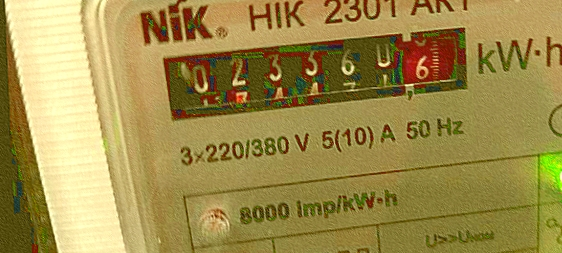0: (189, 62, 212, 97), (371, 40, 394, 71)
2: (227, 55, 249, 89)
3: (301, 45, 321, 79), (263, 53, 284, 84)
6: (411, 51, 434, 85), (336, 45, 358, 79)
screen: (145, 18, 487, 129)
